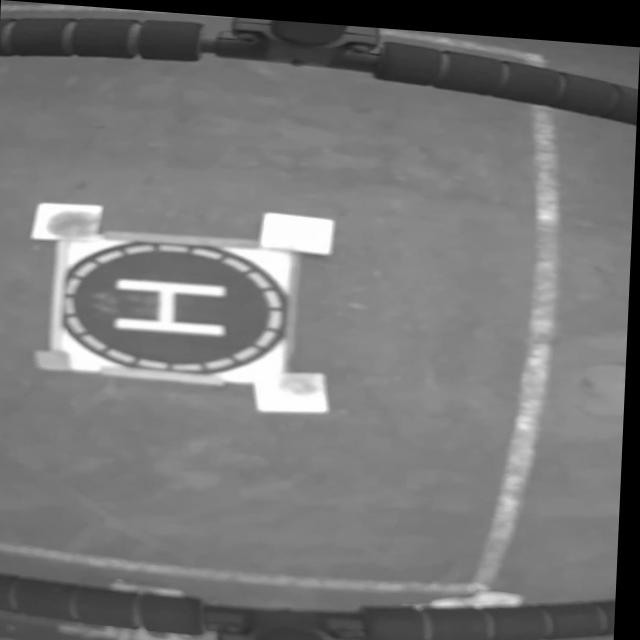Helipad: (117, 276, 226, 332)
